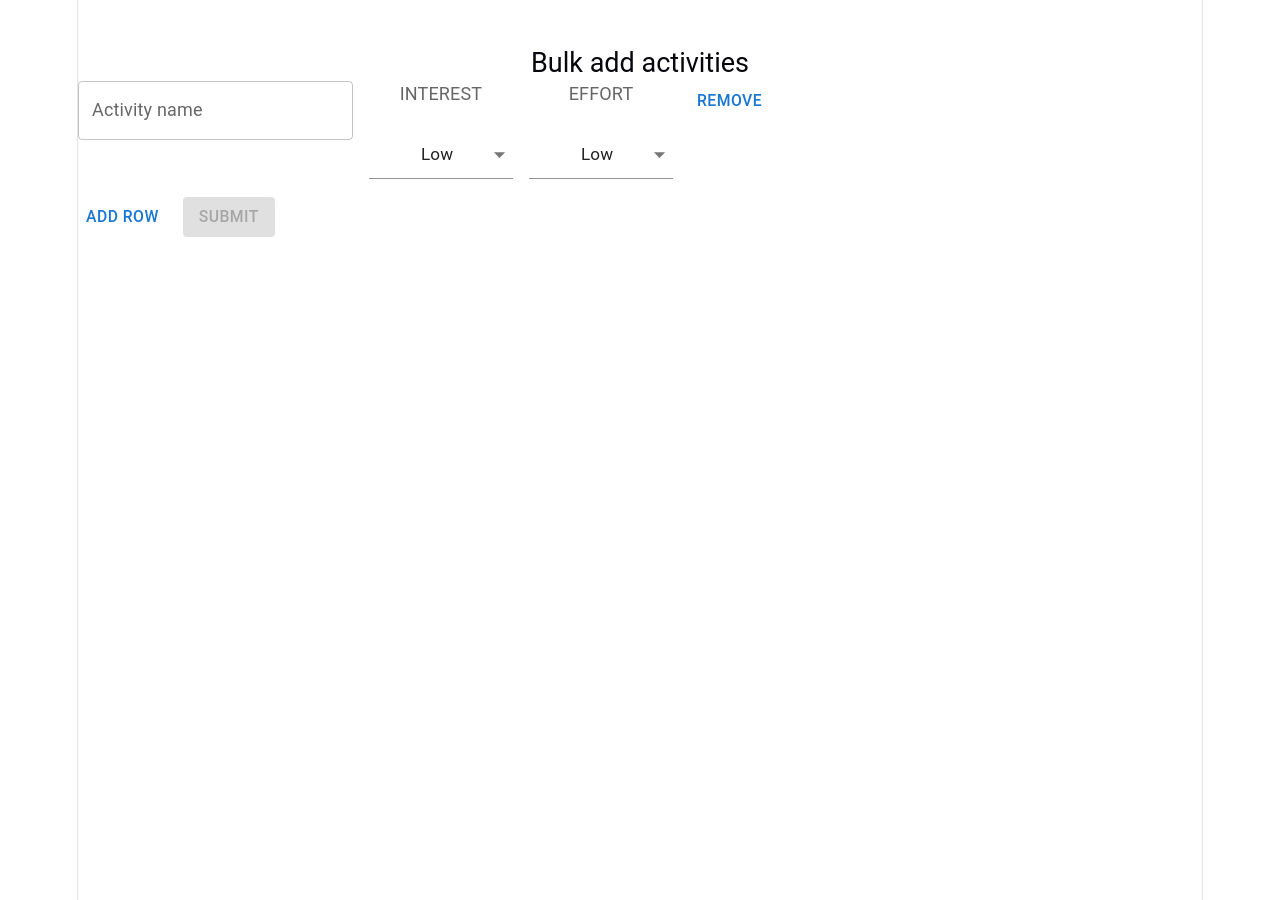
BulkAddForm › adds a row with LOW/LOW defaults
Click the button "Add row": point(122, 217) [78,197,167,237]
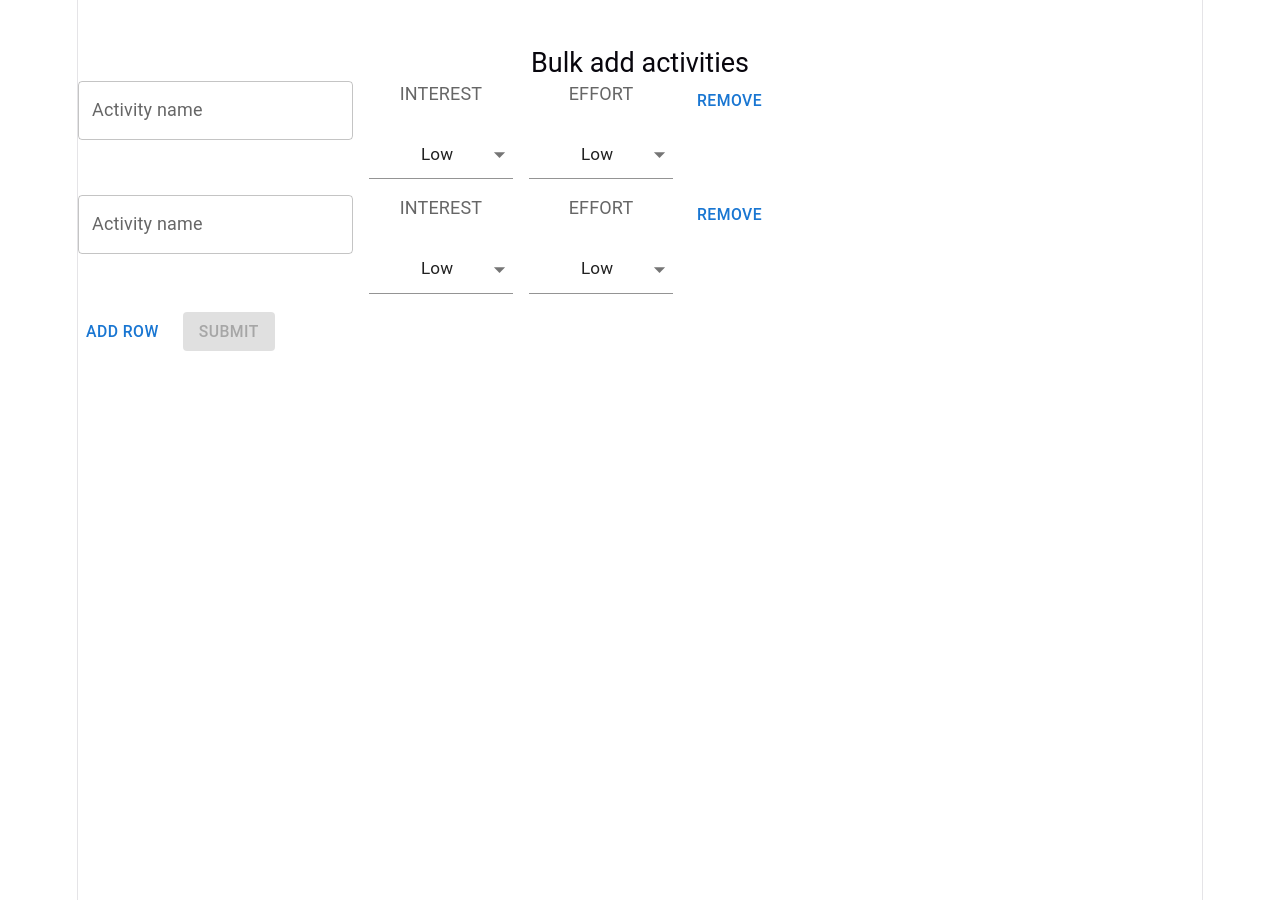
expect the number of fields labelled "Activity name" is 2: met, box [78,81,353,140]; [78,195,353,254]
expect the 3rd dropdown labelled "Low" is shown: met, box [421,258,453,278]
expect the 4th dropdown labelled "Low" is shown: met, box [581,258,613,278]
